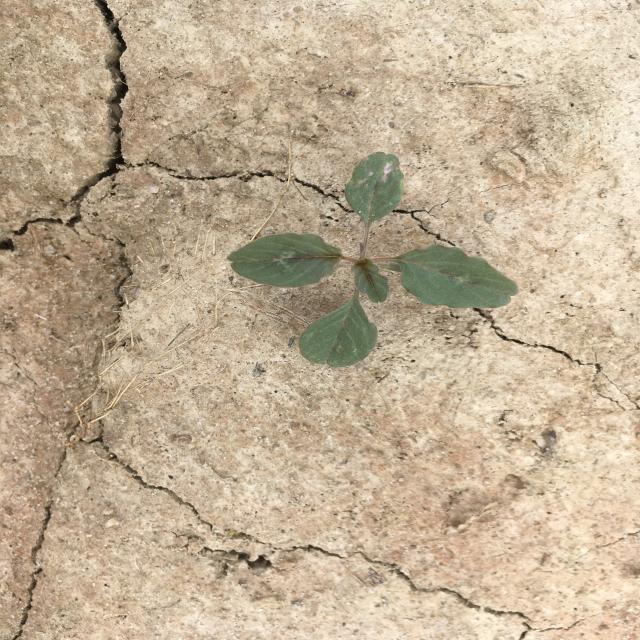PalmerAmaranth: (226, 151, 520, 368)
